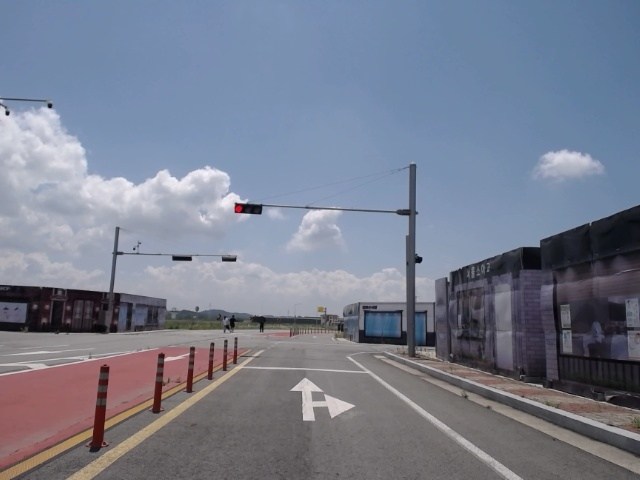red_3: (235, 202, 262, 215)
